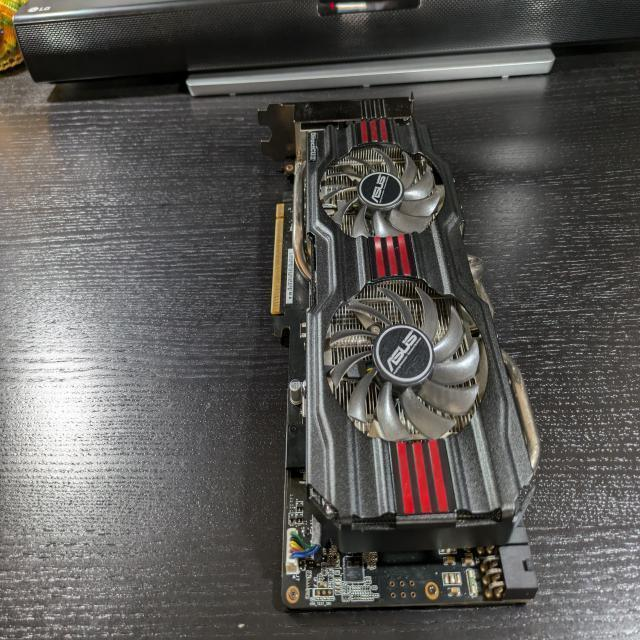GPU: (258, 88, 540, 621)
